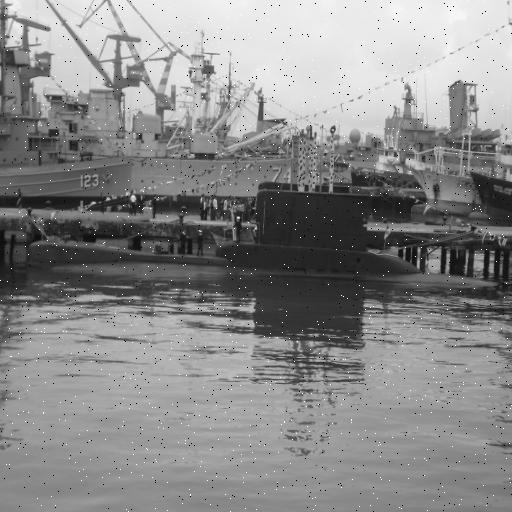submarine: (29, 190, 502, 293)
